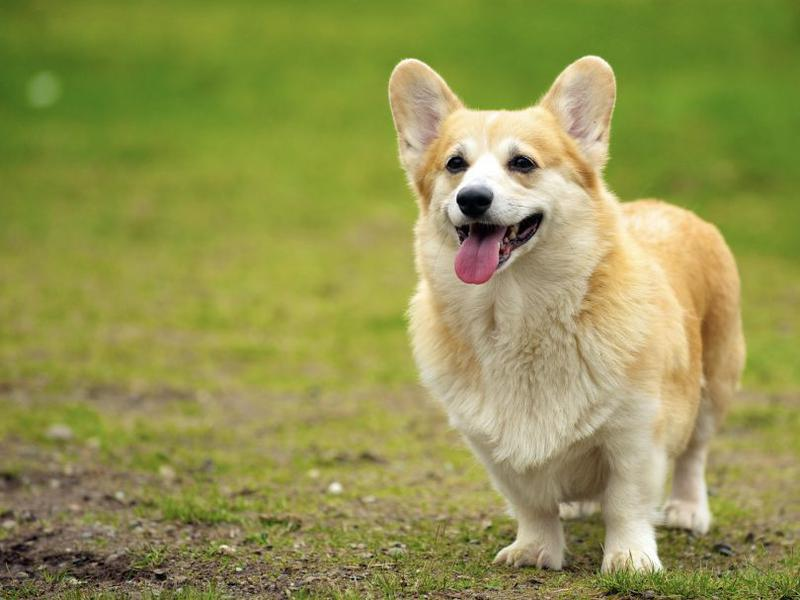corgi: (389, 55, 620, 287)
